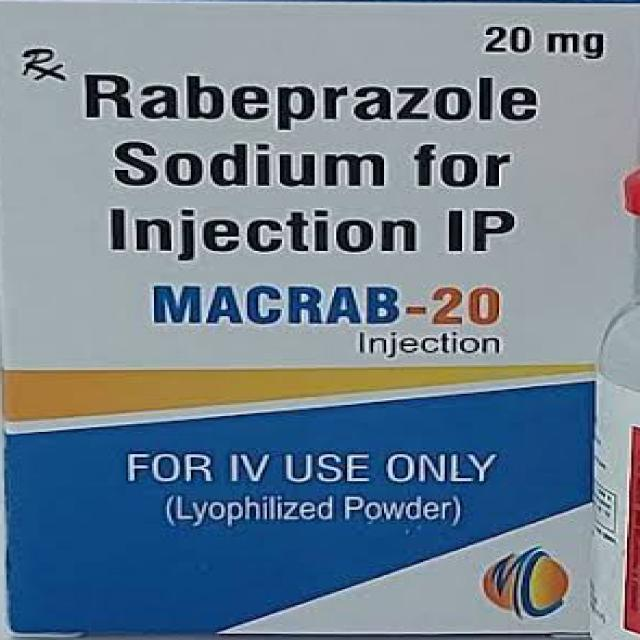drug-name: (145, 279, 502, 326)
